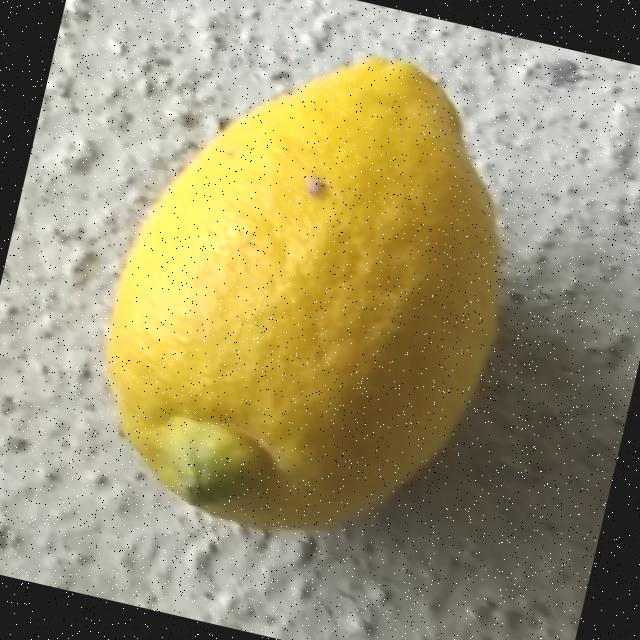Lemon: (69, 9, 552, 572)
